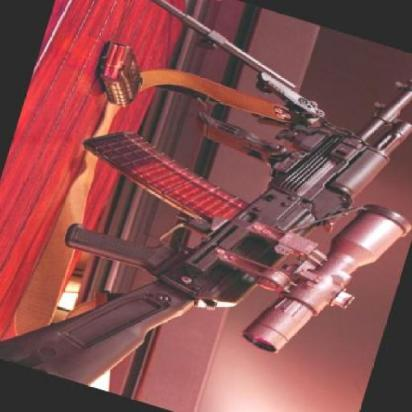Gun: (1, 87, 412, 378)
